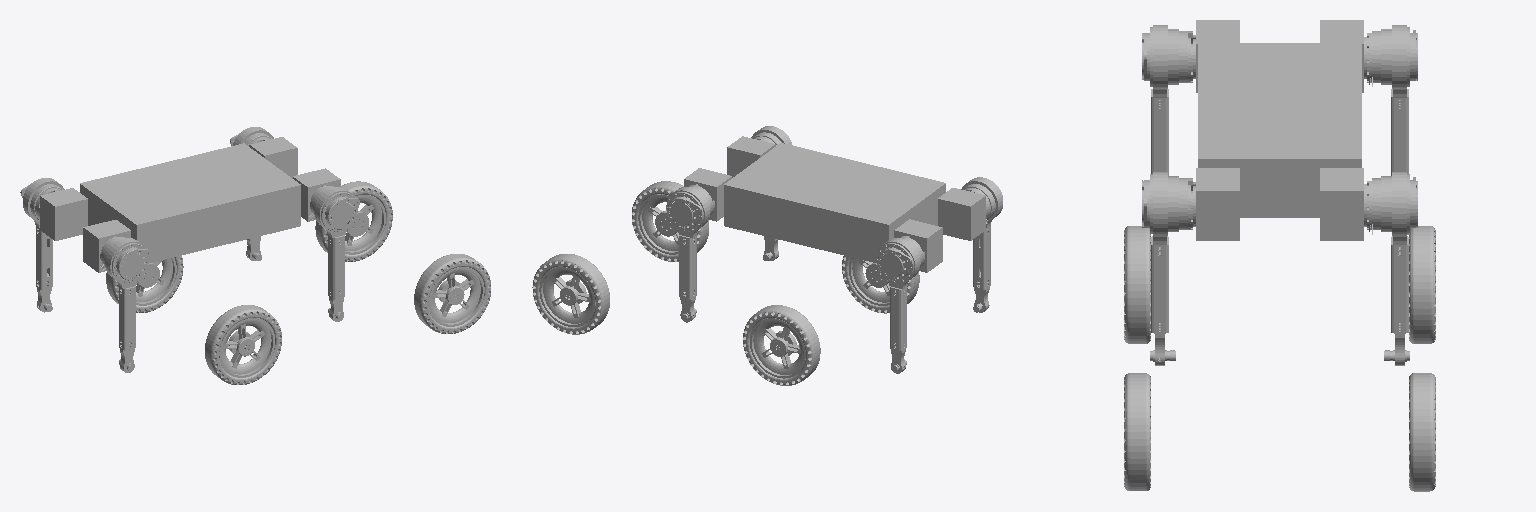
robot.urdf — pongbotW:
<?xml version="1.0" encoding="utf-8"?>
<!-- This URDF was automatically created by SolidWorks to URDF Exporter! Originally created by Stephen Brawner (brawner@gmail.com) 
     Commit Version: 1.6.0-4-g7f85cfe  Build Version: 1.6.7995.38578
     For more information, please see http://wiki.ros.org/sw_urdf_exporter -->
<robot
  name="pongbotW">
  <link
    name="BASE">
    <inertial>
      <origin
        xyz="-0.0105 -0.00051 0.00089"
        rpy="0 0 0" />
      <mass
        value="29.589" />
      <inertia
        ixx="0.23275"
        ixy="-0.00319"
        ixz="-0.00016"
        iyy="1.3481"
        iyz="-0.00019"
        izz="1.4819" />
    </inertial>
    <visual>
      <origin
        xyz="0 0 0"
        rpy="0 0 0" />
      <geometry>
        <box
          size="0.5 0.3 0.12" />
        <!-- <mesh
          filename="../meshes/BASE.STL" /> -->
      </geometry>
      <material
        name="">
        <color
          rgba="0.75294 0.75294 0.75294 1" />
      </material>
    </visual>
    <collision>
      <origin
        xyz="0 0 0"
        rpy="0 0 0" />
      <geometry>
      <box
        size="0.5 0.3 0.12" />
        <!-- <mesh
          filename="../meshes/BASE.STL" /> -->
      </geometry>
    </collision>
  </link>
  <link
    name="RL_HIP">
    <inertial>
      <origin
        xyz="-0.0029 -0.00524 -0.00073"
        rpy="0 0 0" />
      <mass
        value="1.5871" />
      <inertia
        ixx="0.00134"
        ixy="-1E-05"
        ixz="1E-05"
        iyy="0.00194"
        iyz="0"
        izz="0.00158" />
    </inertial>
    <visual>
      <origin
        xyz="0 0 0"
        rpy="0 0 0" />
      <geometry>
      <box
        size="0.1 0.08 0.1" />
        <!-- <mesh
          filename="../meshes/RL_HIP.STL" /> -->
      </geometry>
      <material
        name="">
        <color
          rgba="0.75294 0.75294 0.75294 1" />
      </material>
    </visual>
    <collision>
      <origin
        xyz="0 0 0"
        rpy="0 0 0" />
      <geometry>
      <box
        size="0.1 0.08 0.1" />
        <!-- <mesh
          filename="../meshes/RL_HIP.STL" /> -->
      </geometry>
    </collision>
  </link>
  <joint
    name="RL_HR_JOINT"
    type="revolute">
    <origin
      xyz="-0.31804 0.1138 0"
      rpy="0 0 0" />
    <parent
      link="BASE" />
    <child
      link="RL_HIP" />
    <axis
      xyz="1 0 0" />
    <limit effort="76.5" lower="-0.6283" upper="0.6283" velocity="14.5"/>
    <!-- <limit
      lower="-0.6283"
      upper="0.6283"
      effort=
      velocity=/> -->
  </joint>
  <link
    name="RL_THIGH">
    <inertial>
      <origin
        xyz="-7E-05 -0.00772 -0.03599"
        rpy="0 0 0" />
      <mass
        value="3.32" />
      <inertia
        ixx="0.027"
        ixy="-5E-05"
        ixz="-3E-05"
        iyy="0.02726"
        iyz="-0.00086"
        izz="0.00394" />
    </inertial>
    <visual>
      <origin
        xyz="0 0 0"
        rpy="0 0 0" />
      <geometry>
      <!-- <box
        size="0.08 0.05 0.3" /> -->
        <mesh
          filename="../meshes/RL_THIGH.STL" />
      </geometry>
      <material
        name="">
        <color
          rgba="0.75294 0.75294 0.75294 1" />
      </material>
    </visual>
    <collision>
      <origin
        xyz="0 0 -0.15"
        rpy="0 0 0" />
      <geometry>
      <box
        size="0.08 0.05 0.3" />
        <!-- <mesh
          filename="../meshes/RL_THIGH.STL" /> -->
      </geometry>
    </collision>
  </link>
  <joint
    name="RL_HP_JOINT"
    type="revolute">
    <origin
      xyz="0 0.105 0"
      rpy="0 0 0" />
    <parent
      link="RL_HIP" />
    <child
      link="RL_THIGH" />
    <axis
      xyz="0 1 0" />
    <limit effort="150" lower="-0.9075" upper="3.0194" velocity="8.2"/>
    <!-- <limit
      lower="0"
      upper="0"/> -->
  </joint>
  <link
    name="RL_CALF">
    <inertial>
      <origin
        xyz="0.00554 -0.00354 -0.22683"
        rpy="0 0 0" />
      <mass
        value="1.4843" />
      <inertia
        ixx="0.02812"
        ixy="4E-05"
        ixz="-0.00038"
        iyy="0.02856"
        iyz="0.00133"
        izz="0.00135" />
    </inertial>
    <visual>
      <origin
        xyz="0 0 0"
        rpy="0 0 0" />
      <geometry>
        <mesh
          filename="../meshes/RL_CALF.STL" />
      </geometry>
      <material
        name="">
        <color
          rgba="0.75294 0.75294 0.75294 1" />
      </material>
    </visual>
    <collision>
      <origin
        xyz="0 0 0"
        rpy="0 0 0" />
      <geometry>
        <mesh
          filename="../meshes/RL_CALF.STL" />
      </geometry>
    </collision>
  </link>
  <joint
    name="RL_KN_JOINT"
    type="revolute">
    <origin
      xyz="0 0 -0.305"
      rpy="0 0 0" />
    <parent
      link="RL_THIGH" />
    <child
      link="RL_CALF" />
    <axis
      xyz="0 1 0" />
    <limit effort="268.5" lower="-2.4958" upper="-0.6457" velocity="4.82"/>
    <!-- <limit
      lower="0"
      upper="0"/> -->
  </joint>
  <link
    name="RL_WHEEL">
    <inertial>
      <origin
        xyz="0 -0.00076 0"
        rpy="0 0 0" />
      <mass
        value="1.1204" />
      <inertia
        ixx="0.00401"
        ixy="0"
        ixz="0"
        iyy="0.00769"
        iyz="0"
        izz="0.00401" />
    </inertial>
    <visual>
      <!-- <origin
        xyz="0 0 0"
        rpy="1.5708 0 0" /> -->
      <origin
      xyz="0 0 0"
      rpy="0 0 0" />
      <geometry>
        <mesh
          filename="../meshes/RL_WHEEL.STL" />
          <!-- <cylinder
          radius="0.108"
          length="0.04" /> -->
      </geometry>
      <material
        name="">
        <color
          rgba="0.75294 0.75294 0.75294 1" />
      </material>
    </visual>
    <collision>
      <origin
        xyz="0 0 0"
        rpy="1.5708 0 0" />
        <!-- rpy="1.5708 0 0" /> -->
      <geometry>
        <!-- <mesh
          filename="../meshes/RL_WHEEL.STL" /> -->
          <!-- <cylinder  -->
          <!-- radius="0.108" -->
          <!-- length="0.04" /> -->
          <sphere radius="0.108" />
      </geometry>
    </collision>
  </link>
  <joint
    name="RL_WHEEL_JOINT"
    type="continuous">
  <!-- <joint
    name="RL_WHEEL_JOINT"
    type="fixed"> -->
    <origin
      xyz="0 0.0405 -0.3292"
      rpy="0 0 0" />
    <parent
      link="RL_CALF" />
    <child
      link="RL_WHEEL" />
    <axis
      xyz="0 1 0" />
    <limit effort="9" velocity="19"/>
    <!-- <axis
      xyz="0 0 0" /> -->
    <!-- <limit
      lower="0"
      upper="0"/> -->
  </joint>
  <link
    name="RR_HIP">
    <inertial>
      <origin
        xyz="-0.0028 0.00524 0.00109"
        rpy="0 0 0" />
      <mass
        value="1.5871" />
      <inertia
        ixx="0.00134"
        ixy="1E-05"
        ixz="-1E-05"
        iyy="0.00194"
        iyz="-1E-05"
        izz="0.00158" />
    </inertial>
    <visual>
      <origin
        xyz="0 0 0"
        rpy="0 0 0" />
      <geometry>
      <box
        size="0.1 0.08 0.1" />
        <!-- <mesh
          filename="../meshes/RR_HIP.STL" /> -->
      </geometry>
      <material
        name="">
        <color
          rgba="0.75294 0.75294 0.75294 1" />
      </material>
    </visual>
    <collision>
      <origin
        xyz="0 0 0"
        rpy="0 0 0" />
      <geometry>
      <box
        size="0.1 0.08 0.1" />
        <!-- <mesh
          filename="../meshes/RR_HIP.STL" /> -->
      </geometry>
    </collision>
  </link>
  <joint
    name="RR_HR_JOINT"
    type="revolute">
    <origin
      xyz="-0.31804 -0.1138 0"
      rpy="0 0 0" />
    <parent
      link="BASE" />
    <child
      link="RR_HIP" />
    <axis
      xyz="1 0 0" />
    <limit effort="76.5" lower="-0.6283" upper="0.6283" velocity="14.5"/>
    <!-- <limit
      lower="0"
      upper="0"/> -->
  </joint>
  <link
    name="RR_THIGH">
    <inertial>
      <origin
        xyz="7E-05 0.00772 -0.03599"
        rpy="0 0 0" />
      <mass
        value="3.32" />
      <inertia
        ixx="0.027"
        ixy="-5E-05"
        ixz="3E-05"
        iyy="0.02726"
        iyz="0.00086"
        izz="0.00394" />
    </inertial>
    <visual>
      <origin
        xyz="0 0 0"
        rpy="0 0 0" />
      <geometry>
      <!-- <box
        size="0.08 0.05 0.3" /> -->
        <mesh
          filename="../meshes/RR_THIGH.STL" />
      </geometry>
      <material
        name="">
        <color
          rgba="0.75294 0.75294 0.75294 1" />
      </material>
    </visual>
    <collision>
      <origin
        xyz="0 0 -0.15"
        rpy="0 0 0" />
      <geometry>
      <box
        size="0.08 0.05 0.3" />
        <!-- <mesh
          filename="../meshes/RR_THIGH.STL" /> -->
      </geometry>
    </collision>
  </link>
  <joint
    name="RR_HP_JOINT"
    type="revolute">
    <origin
      xyz="0 -0.105 0"
      rpy="0 0 0" />
    <parent
      link="RR_HIP" />
    <child
      link="RR_THIGH" />
    <axis
      xyz="0 1 0" />
    <limit effort="150" lower="-0.9075" upper="3.0194" velocity="8.2"/>
    <!-- <limit
      lower="0"
      upper="0"/> -->
  </joint>
  <link
    name="RR_CALF">
    <inertial>
      <origin
        xyz="0.00555 0.00354 -0.22683"
        rpy="0 0 0" />
      <mass
        value="1.4843" />
      <inertia
        ixx="0.02812"
        ixy="-4E-05"
        ixz="-0.00038"
        iyy="0.02856"
        iyz="-0.00133"
        izz="0.00135" />
    </inertial>
    <visual>
      <origin
        xyz="0 0 0"
        rpy="0 0 0" />
      <geometry>
        <mesh
          filename="../meshes/RR_CALF.STL" />
      </geometry>
      <material
        name="">
        <color
          rgba="0.75294 0.75294 0.75294 1" />
      </material>
    </visual>
    <collision>
      <origin
        xyz="0 0 0"
        rpy="0 0 0" />
      <geometry>
        <mesh
          filename="../meshes/RR_CALF.STL" />
      </geometry>
    </collision>
  </link>
  <joint
    name="RR_KN_JOINT"
    type="revolute">
    <origin
      xyz="0 0 -0.305"
      rpy="0 0 0" />
    <parent
      link="RR_THIGH" />
    <child
      link="RR_CALF" />
    <axis
      xyz="0 1 0" />
    <limit effort="268.5" lower="-2.4958" upper="-0.6457" velocity="4.82"/>
    <!-- <limit
      lower="0"
      upper="0"/> -->
  </joint>
  <link
    name="RR_WHEEL">
    <inertial>
      <origin
        xyz="0 0.00076 0"
        rpy="0 0 0" />
      <mass
        value="1.1204" />
      <inertia
        ixx="0.00401"
        ixy="0"
        ixz="0"
        iyy="0.00769"
        iyz="0"
        izz="0.00401" />
    </inertial>
    <visual>
      <!-- <origin
        xyz="0 0 0"
        rpy="1.5708 0 0" /> -->
      <origin
      xyz="0 0 0"
      rpy="0 0 0" />
      <geometry>
        <mesh
          filename="../meshes/RR_WHEEL.STL" />
           <!-- <cylinder
          radius="0.108"
          length="0.04" /> -->
      </geometry>
      <material
        name="">
        <color
          rgba="0.75294 0.75294 0.75294 1" />
      </material>
    </visual>
    <collision>
      <origin
        xyz="0 0 0"
        rpy="1.5708 0 0" />
        <!-- rpy="1.5708 0 0" /> -->
      <geometry>
        <!-- <mesh
          filename="../meshes/RR_WHEEL.STL" /> -->
        <!-- <cylinder -->
          <!-- radius="0.108" -->
          <!-- length="0.04" /> -->
        <sphere radius="0.108" />

      </geometry>
    </collision>
  </link>
  <joint
    name="RR_WHEEL_JOINT"
    type="continuous">
  <!-- <joint
    name="RR_WHEEL_JOINT"
    type="fixed"> -->
    <origin
      xyz="0 -0.0405 -0.3292"
      rpy="0 0 0" />
    <parent
      link="RR_CALF" />
    <child
      link="RR_WHEEL" />
    <axis
      xyz="0 1 0" />
    <limit effort="9" velocity="19"/>
    <!-- <axis
      xyz="0 0 0" /> -->
    <!-- <limit
      lower="0"
      upper="0"/> -->
  </joint>
  <link
    name="FL_HIP">
    <inertial>
      <origin
        xyz="0.00261 -0.00524 0.00014"
        rpy="0 0 0" />
      <mass
        value="1.5871" />
      <inertia
        ixx="0.00134"
        ixy="0"
        ixz="1E-05"
        iyy="0.00194"
        iyz="-2E-05"
        izz="0.00158" />
    </inertial>
    <visual>
      <origin
        xyz="0 0 0"
        rpy="0 0 0" />
      <geometry>
      <box
        size="0.1 0.08 0.1" />
        <!-- <mesh
          filename="../meshes/FL_HIP.STL" /> -->
      </geometry>
      <material
        name="">
        <color
          rgba="0.75294 0.75294 0.75294 1" />
      </material>
    </visual>
    <collision>
      <origin
        xyz="0 0 0"
        rpy="0 0 0" />
      <geometry>
      <box
        size="0.1 0.08 0.1" />
        <!-- <mesh
          filename="../meshes/FL_HIP.STL" /> -->
      </geometry>
    </collision>
  </link>
  <joint
    name="FL_HR_JOINT"
    type="revolute">
    <origin
      xyz="0.31804 0.1138 0"
      rpy="0 0 0" />
    <parent
      link="BASE" />
    <child
      link="FL_HIP" />
    <axis
      xyz="1 0 0" />
    <limit effort="76.5" lower="-0.6283" upper="0.6283" velocity="14.5"/>
    <!-- <limit
      lower="0"
      upper="0"/> -->
  </joint>
  <link
    name="FL_THIGH">
    <inertial>
      <origin
        xyz="-7E-05 -0.00772 -0.03599"
        rpy="0 0 0" />
      <mass
        value="3.32" />
      <inertia
        ixx="0.027"
        ixy="-5E-05"
        ixz="-3E-05"
        iyy="0.02726"
        iyz="-0.00086"
        izz="0.00394" />
    </inertial>
    <visual>
      <origin
        xyz="0 0 0"
        rpy="0 0 0" />
      <geometry>
      <!-- <box
        size="0.08 0.05 0.3" /> -->
        <mesh
          filename="../meshes/FL_THIGH.STL" />
      </geometry>
      <material
        name="">
        <color
          rgba="0.75294 0.75294 0.75294 1" />
      </material>
    </visual>
    <collision>
      <origin
        xyz="0 0 -0.15"
        rpy="0 0 0" />
      <geometry>
      <box
        size="0.08 0.05 0.3" />
        <!-- <mesh
          filename="../meshes/FL_THIGH.STL" /> -->
      </geometry>
    </collision>
  </link>
  <joint
    name="FL_HP_JOINT"
    type="revolute">
    <origin
      xyz="0 0.105 0"
      rpy="0 0 0" />
    <parent
      link="FL_HIP" />
    <child
      link="FL_THIGH" />
    <axis
      xyz="0 1 0" />
    <limit effort="150" lower="-0.9075" upper="3.0194" velocity="8.2"/>
    <!-- <limit
      lower="0"
      upper="0"/> -->
  </joint>
  <link
    name="FL_CALF">
    <inertial>
      <origin
        xyz="0.00554 -0.00354 -0.22683"
        rpy="0 0 0" />
      <mass
        value="1.4843" />
      <inertia
        ixx="0.02812"
        ixy="4E-05"
        ixz="-0.00038"
        iyy="0.02856"
        iyz="0.00133"
        izz="0.00135" />
    </inertial>
    <visual>
      <origin
        xyz="0 0 0"
        rpy="0 0 0" />
      <geometry>
        <mesh
          filename="../meshes/FL_CALF.STL" />
      </geometry>
      <material
        name="">
        <color
          rgba="0.75294 0.75294 0.75294 1" />
      </material>
    </visual>
    <collision>
      <origin
        xyz="0 0 0"
        rpy="0 0 0" />
      <geometry>
        <mesh
          filename="../meshes/FL_CALF.STL" />
      </geometry>
    </collision>
  </link>
  <joint
    name="FL_KN_JOINT"
    type="revolute">
    <origin
      xyz="0 0 -0.305"
      rpy="0 0 0" />
    <parent
      link="FL_THIGH" />
    <child
      link="FL_CALF" />
    <axis
      xyz="0 1 0" />
    <limit effort="268.5" lower="-2.4958" upper="-0.6457" velocity="4.82"/>
    <!-- <limit
      lower="0"
      upper="0"/> -->
  </joint>
  <link
    name="FL_WHEEL">
    <inertial>
      <origin
        xyz="0 -0.00076 0"
        rpy="0 0 0" />
      <mass
        value="1.1204" />
      <inertia
        ixx="0.00401"
        ixy="0"
        ixz="0"
        iyy="0.00769"
        iyz="0"
        izz="0.00401" />
    </inertial>
    <visual>
      <!-- <origin
        xyz="0 0 0"
        rpy="1.5708 0 0" /> -->
      <origin
      xyz="0 0 0"
      rpy="0 0 0" />
      <geometry>
        <mesh
          filename="../meshes/FL_WHEEL.STL" />
          <!-- <cylinder
          radius="0.108"
          length="0.04" /> -->
      </geometry>
      <material
        name="">
        <color
          rgba="0.75294 0.75294 0.75294 1" />
      </material>
    </visual>
    <collision>
      <origin
        xyz="0 0 0"
        rpy="1.5708 0 0" />
        <!-- rpy="1.5708 0 0" /> -->
      <geometry>
        <!-- <mesh
          filename="../meshes/FL_WHEEL.STL" /> -->
          <!-- <cylinder -->
            <!-- radius="0.108" -->
            <!-- length="0.04" /> -->
          <sphere radius="0.108" />
      </geometry>
    </collision>
  </link>
  <joint
    name="FL_WHEEL_JOINT"
    type="continuous">
  <!-- <joint
    name="FL_WHEEL_JOINT"
    type="continous"> -->
    <origin
      xyz="0 0.0405 -0.3292"
      rpy="0 0 0" />
    <parent
      link="FL_CALF" />
    <child
      link="FL_WHEEL" />
    <axis
      xyz="0 1 0" />
    <limit effort="9" velocity="19"/>
    <!-- <axis
      xyz="0 0 0" /> -->
    <!-- <limit
      lower="0"
      upper="0"/> -->
  </joint>
  <link
    name="FR_HIP">
    <inertial>
      <origin
        xyz="0.0027 0.00524 0.00022"
        rpy="0 0 0" />
      <mass
        value="1.5871" />
      <inertia
        ixx="0.00134"
        ixy="-1E-05"
        ixz="-1E-05"
        iyy="0.00194"
        iyz="-4E-05"
        izz="0.00158" />
    </inertial>
    <visual>
      <origin
        xyz="0 0 0"
        rpy="0 0 0" />
      <geometry>
      <box
        size="0.1 0.08 0.1" />
        <!-- <mesh
          filename="../meshes/FR_HIP.STL" /> -->
      </geometry>
      <material
        name="">
        <color
          rgba="0.75294 0.75294 0.75294 1" />
      </material>
    </visual>
    <collision>
      <origin
        xyz="0 0 0"
        rpy="0 0 0" />
      <geometry>
      <box
        size="0.1 0.08 0.1" />
        <!-- <mesh
          filename="../meshes/FR_HIP.STL" /> -->
      </geometry>
    </collision>
  </link>
  <joint
    name="FR_HR_JOINT"
    type="revolute">
    <origin
      xyz="0.31804 -0.1138 0"
      rpy="0 0 0" />
    <parent
      link="BASE" />
    <child
      link="FR_HIP" />
    <axis
      xyz="1 0 0" />
    <limit effort="76.5" lower="-0.6283" upper="0.6283" velocity="14.5"/>
    <!-- <limit
      lower="0"
      upper="0"/> -->
  </joint>
  <link
    name="FR_THIGH">
    <inertial>
      <origin
        xyz="7E-05 0.00772 -0.03599"
        rpy="0 0 0" />
      <mass
        value="3.32" />
      <inertia
        ixx="0.027"
        ixy="-5E-05"
        ixz="3E-05"
        iyy="0.02726"
        iyz="0.00086"
        izz="0.00394" />
    </inertial>
    <visual>
      <origin
        xyz="0 0 0"
        rpy="0 0 0" />
      <geometry>
      <!-- <box
        size="0.08 0.05 0.3" /> -->
        <mesh
          filename="../meshes/FR_THIGH.STL" />
      </geometry>
      <material
        name="">
        <color
          rgba="0.75294 0.75294 0.75294 1" />
      </material>
    </visual>
    <collision>
      <origin
        xyz="0 0 -0.15"
        rpy="0 0 0" />
      <geometry>
      <box
        size="0.08 0.05 0.3" />
        <!-- <mesh
          filename="../meshes/FR_THIGH.STL" /> -->
      </geometry>
    </collision>
  </link>
  <joint
    name="FR_HP_JOINT"
    type="revolute">
    <origin
      xyz="0 -0.105 0"
      rpy="0 0 0" />
    <parent
      link="FR_HIP" />
    <child
      link="FR_THIGH" />
    <axis
      xyz="0 1 0" />
    <limit effort="150" lower="-0.9075" upper="3.0194" velocity="8.2"/>
    <!-- <limit
      lower="0"
      upper="0"/> -->
  </joint>
  <link
    name="FR_CALF">
    <inertial>
      <origin
        xyz="0.00555 0.00354 -0.22683"
        rpy="0 0 0" />
      <mass
        value="1.4843" />
      <inertia
        ixx="0.02812"
        ixy="-4E-05"
        ixz="-0.00038"
        iyy="0.02856"
        iyz="-0.00133"
        izz="0.00135" />
    </inertial>
    <visual>
      <origin
        xyz="0 0 0"
        rpy="0 0 0" />
      <geometry>
        <mesh
          filename="../meshes/FR_CALF.STL" />
      </geometry>
      <material
        name="">
        <color
          rgba="0.75294 0.75294 0.75294 1" />
      </material>
    </visual>
    <collision>
      <origin
        xyz="0 0 0"
        rpy="0 0 0" />
      <geometry>
        <mesh
          filename="../meshes/FR_CALF.STL" />
      </geometry>
    </collision>
  </link>
  <joint
    name="FR_KN_JOINT"
    type="revolute">
    <origin
      xyz="0 0 -0.305"
      rpy="0 0 0" />
    <parent
      link="FR_THIGH" />
    <child
      link="FR_CALF" />
    <axis
      xyz="0 1 0" />
    <limit effort="268.5" lower="-2.4958" upper="-0.6457" velocity="4.82"/>
    <!-- <limit
      lower="0"
      upper="0"/> -->
  </joint>
  <link
    name="FR_WHEEL">
    <inertial>
      <origin
        xyz="0 0.00076 0"
        rpy="0 0 0" />
      <mass
        value="1.1204" />
      <inertia
        ixx="0.00401"
        ixy="0"
        ixz="0"
        iyy="0.00769"
        iyz="0"
        izz="0.00401" />
    </inertial>
    <visual>
      <!-- <origin
        xyz="0 0 0"
        rpy="1.5708 0 0" /> -->
      <origin
      xyz="0 0 0"
      rpy="0 0 0" />
      <geometry>
        <mesh
          filename="../meshes/FR_WHEEL.STL" />
          <!-- <cylinder
          radius="0.108"
          length="0.04" /> -->
      </geometry>
      <material
        name="">
        <color
          rgba="0.75294 0.75294 0.75294 1" />
      </material>
    </visual>
    <collision>
      <origin
        xyz="0 0 0"
        rpy="1.5708 0 0" />
        <!-- rpy="1.5708 0 0" /> -->
      <geometry>
        <!-- <mesh
          filename="../meshes/FR_WHEEL.STL" /> -->
        <!-- <cylinder -->
          <!-- radius="0.108" -->
          <!-- length="0.04" /> -->
        <sphere radius="0.108" />
      </geometry>
    </collision>
  </link>
  <!-- <joint
    name="FR_WHEEL_JOINT"
    type="fixed"> -->
  <joint
    name="FR_WHEEL_JOINT"
    type="continuous">
    <origin
      xyz="0 -0.0405 -0.3292"
      rpy="0 0 0" />
    <parent
      link="FR_CALF" />
    <child
      link="FR_WHEEL" />
    <axis
      xyz="0 1 0" />

    <limit effort="9" velocity="19"/>
    <!-- <axis
      xyz="0 0 0" /> -->
    <!-- <limit
      effort = 100
      velocity = 20 /> -->
    <!-- <limit
      lower="0"
      upper="0"/> -->
  </joint>
</robot>

--- What the picture shows (computed from the rendered views, not written in the file) ---
3 views of the same robot in one strip: view 1: azimuth 30°, elevation 25°; view 2: azimuth 150°, elevation 25°; view 3: azimuth 270°, elevation 25° (orthographic).
Model pongbotW with 17 links and 16 joints (12 revolute, 4 continuous), rooted at BASE, posed all joints at 0 but 4 set to mid-range because 0 is outside their limits (RL_KN_JOINT = -1.57, RR_KN_JOINT = -1.57, FL_KN_JOINT = -1.57, FR_KN_JOINT = -1.57).
Links seen in each view (by area): view 1: BASE, RR_WHEEL, FR_WHEEL, RR_THIGH, FR_THIGH, FL_WHEEL, RL_THIGH, RL_HIP, RL_WHEEL, RR_HIP, FL_HIP, FR_HIP (+1 smaller); view 2: BASE, RL_WHEEL, FL_WHEEL, FL_THIGH, RL_THIGH, FR_WHEEL, RR_THIGH, RR_HIP, RR_WHEEL, RL_HIP, FR_HIP, FL_HIP (+1 smaller); view 3: BASE, FR_THIGH, FL_THIGH, RL_THIGH, RR_THIGH, FL_HIP, FR_HIP, FL_WHEEL, FR_WHEEL, RL_WHEEL, RR_WHEEL, RL_HIP (+1 smaller).
Link boxes in pixels (left/top/right/bottom): BASE: left=80, top=143, right=300, bottom=263; RR_WHEEL: left=205, top=305, right=281, bottom=384; FR_WHEEL: left=414, top=254, right=490, bottom=333; RR_THIGH: left=99, top=236, right=150, bottom=372; FR_THIGH: left=309, top=185, right=359, bottom=321; FL_WHEEL: left=315, top=181, right=392, bottom=261; RL_THIGH: left=20, top=178, right=64, bottom=312; RL_HIP: left=40, top=188, right=87, bottom=240; RL_WHEEL: left=106, top=255, right=183, bottom=312; RR_HIP: left=83, top=220, right=130, bottom=272; FL_HIP: left=249, top=137, right=297, bottom=178; FR_HIP: left=293, top=168, right=340, bottom=221; BASE: left=724, top=143, right=945, bottom=262; RL_WHEEL: left=743, top=305, right=820, bottom=385; FL_WHEEL: left=532, top=254, right=609, bottom=334; FL_THIGH: left=666, top=184, right=714, bottom=322; RL_THIGH: left=877, top=236, right=924, bottom=373; FR_WHEEL: left=632, top=181, right=708, bottom=261; RR_THIGH: left=961, top=177, right=1002, bottom=312; RR_HIP: left=938, top=188, right=985, bottom=240; RR_WHEEL: left=842, top=256, right=919, bottom=313; RL_HIP: left=894, top=219, right=942, bottom=272; FR_HIP: left=727, top=136, right=775, bottom=177; FL_HIP: left=684, top=168, right=731, bottom=221; BASE: left=1198, top=43, right=1361, bottom=217; FR_THIGH: left=1142, top=172, right=1195, bottom=365; FL_THIGH: left=1364, top=172, right=1417, bottom=365; RL_THIGH: left=1364, top=25, right=1417, bottom=175; RR_THIGH: left=1142, top=25, right=1195, bottom=175; FL_HIP: left=1320, top=168, right=1363, bottom=240; FR_HIP: left=1196, top=168, right=1239, bottom=240; FL_WHEEL: left=1409, top=373, right=1435, bottom=491; FR_WHEEL: left=1124, top=373, right=1150, bottom=490; RL_WHEEL: left=1409, top=226, right=1435, bottom=343; RR_WHEEL: left=1124, top=226, right=1150, bottom=343; RL_HIP: left=1320, top=20, right=1363, bottom=92.
Bounding box of the posed robot: 1.13 × 0.5676 × 0.473 m (x, y, z).
8 mesh visuals loaded from 12 distinct referenced files (8 binary STL); not drawn: 4 (reference not matched to a file when rendering).
